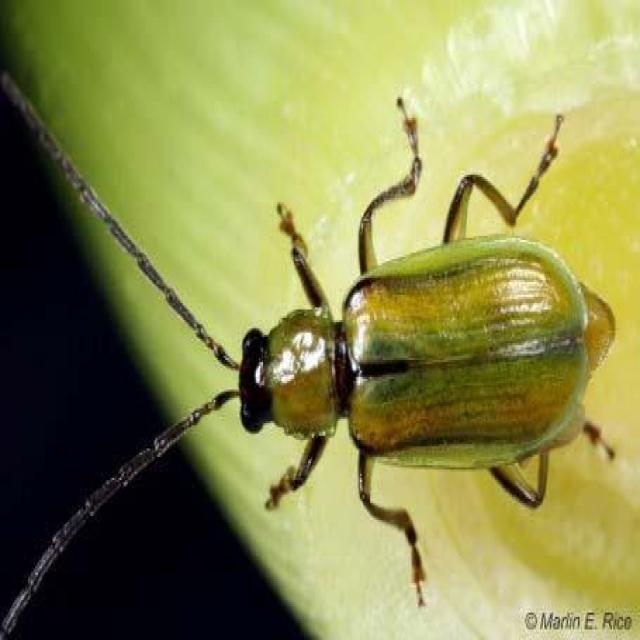trips: (79, 56, 612, 604)
